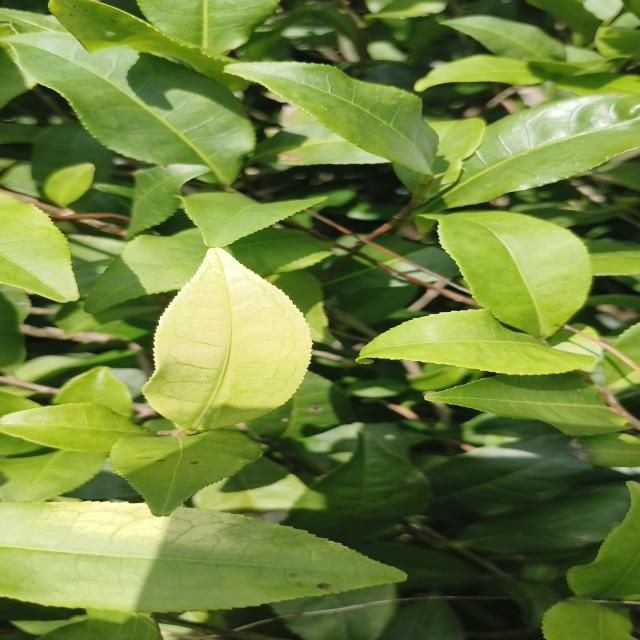Leaf: (0, 501, 403, 612), (10, 32, 254, 184), (142, 248, 311, 431), (427, 93, 640, 212), (226, 62, 438, 176), (426, 211, 591, 341), (284, 432, 430, 542), (49, 0, 232, 86), (358, 309, 592, 375), (427, 434, 592, 515), (111, 429, 261, 516), (428, 373, 626, 436), (454, 483, 630, 553), (86, 228, 210, 312), (567, 481, 640, 600), (0, 194, 78, 302), (180, 192, 326, 247), (138, 0, 279, 54), (192, 456, 306, 522), (0, 403, 146, 452), (246, 371, 347, 440), (273, 584, 396, 640), (32, 123, 113, 206), (127, 164, 207, 238), (356, 542, 484, 588), (441, 15, 566, 62), (253, 123, 389, 166), (0, 450, 106, 501), (224, 228, 333, 277), (414, 55, 545, 92), (52, 366, 132, 417), (542, 601, 636, 640), (379, 600, 464, 640), (556, 73, 640, 95)
